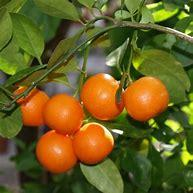orange: (118, 67, 176, 117), (83, 75, 130, 124), (33, 129, 81, 173), (74, 119, 120, 156), (33, 96, 86, 128)
